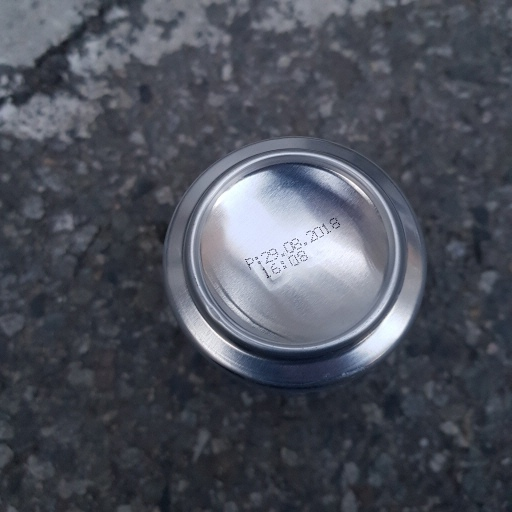Metal_0: (163, 133, 428, 397)
